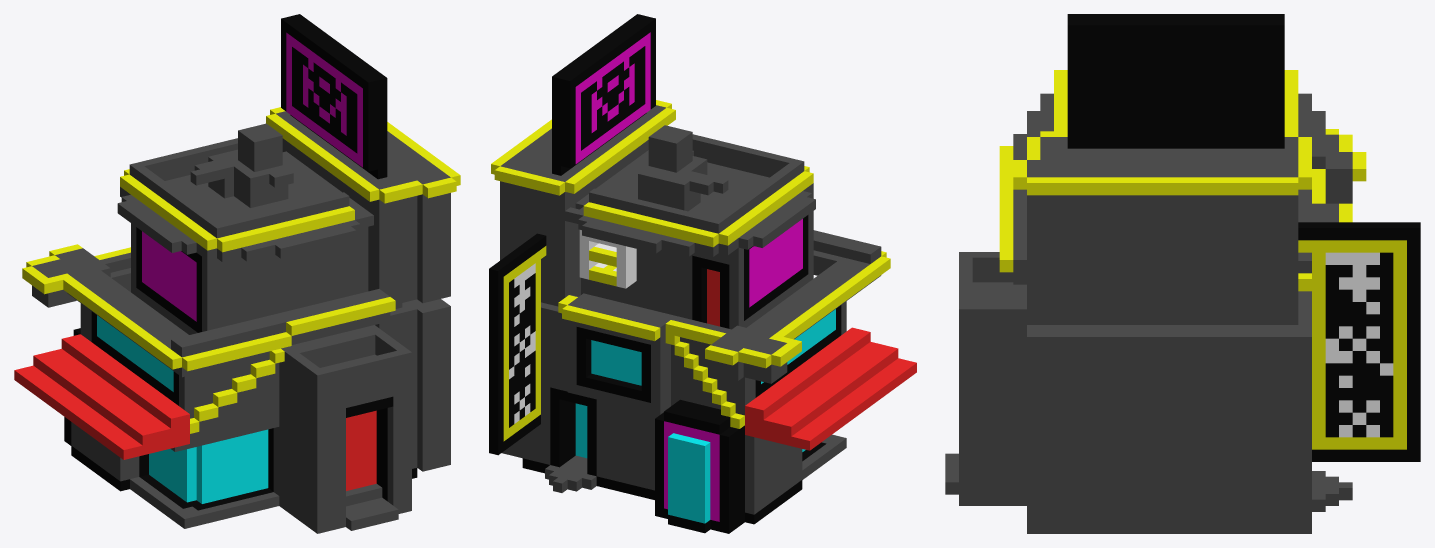
File: casa1-1.obj
The picture shows the model from 3 angles, left to right: view 1: azimuth 30°, elevation 25°; view 2: azimuth 150°, elevation 25°; view 3: azimuth 270°, elevation 25°; orthographic projection. The views are drawn at different scales.
Size of the model in its own units: 3.5 by 4 by 3.5.
Materials: 1 (1 with a texture image).
